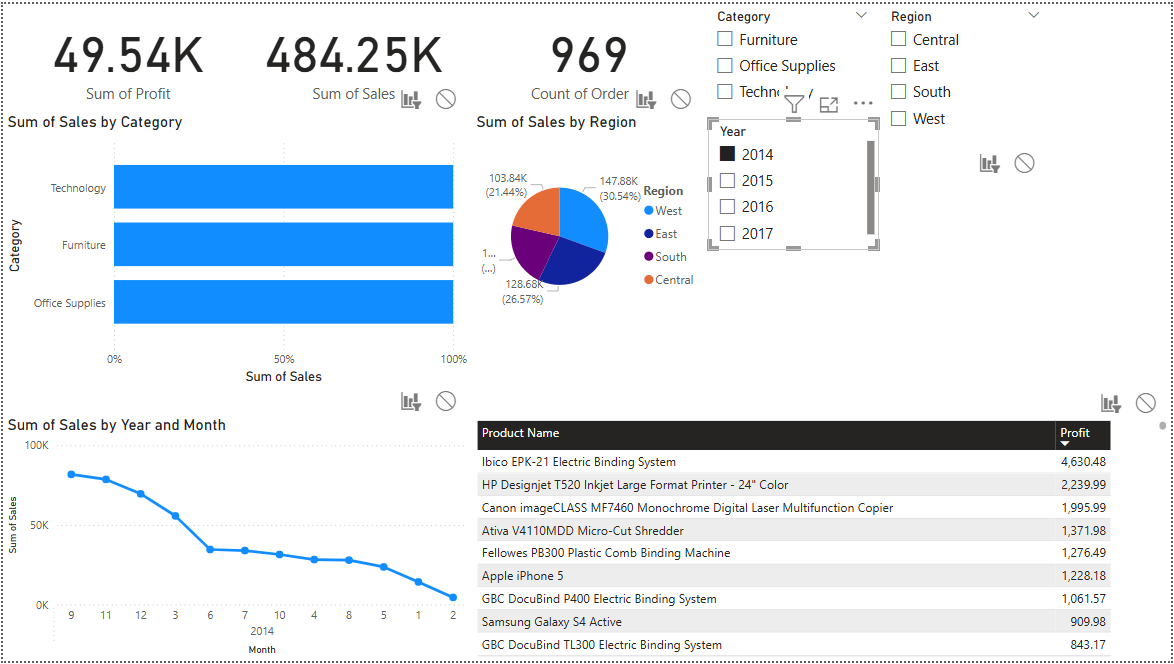

The dashboard page shown, as its layout file describes it:
{"tool":"powerbi","page":{"name":"Page 1","canvas":[1280,720],"ordinal":0},"visuals":[{"type":"card","fields":{"Values":["Sum(Sample - Superstore (2).Profit)"]},"box":[9.8,0,255.6,118.6],"z":0},{"type":"card","fields":{"Values":["Sum(Sample - Superstore (2).Sales)"]},"box":[256.8,0,256.8,118.6],"z":1000},{"type":"card","fields":{"Values":["Count(Sample - Superstore (2).Order ID)"]},"box":[513.6,0,256.8,118.6],"z":2000},{"type":"hundredPercentStackedBarChart","fields":{"Category":["Sample - Superstore (2).Category"],"Y":["Sum(Sample - Superstore (2).Sales)"]},"box":[0,118.6,513.6,302],"z":3000},{"type":"pieChart","fields":{"Y":["Sum(Sample - Superstore (2).Sales)"],"Category":["Sample - Superstore (2).Region"]},"box":[513.6,118.6,258,251.9],"z":5000},{"type":"tableEx","fields":{"Values":["Sample - Superstore (2).Product Name","Sample - Superstore (2).Profit"]},"box":[513.6,452.4,766.7,267.8],"z":6000},{"type":"slicer","fields":{"Values":["Sample - Superstore (2).Category"]},"box":[770.4,0,189.5,126],"z":7000},{"type":"slicer","fields":{"Values":["Sample - Superstore (2).Region"]},"box":[959.9,0,188.3,156.5],"z":8000},{"type":"slicer","fields":{"Values":["Sample - Superstore (2).Year"]},"box":[772.5,126.2,187.5,143.8],"z":9000},{"type":"lineChart","fields":{"Y":["Sum(Sample - Superstore (2).Sales)"],"Category":["Sample - Superstore (2).Year","Sample - Superstore (2).Month"]},"box":[0,450.7,513.7,268.5],"z":9001}]}

Visuals, with their boxes on the page's 1280x720 design canvas (x1, y1, x2, y2). These are canvas units, not pixel positions in the 1174x664 screenshot, which may show the page scaled, cropped or inside an application window:
card - Sum(Sample - Superstore (2).Profit): <region>10, 0, 265, 119</region>
card - Sum(Sample - Superstore (2).Sales): <region>257, 0, 514, 119</region>
card - Count(Sample - Superstore (2).Order ID): <region>514, 0, 770, 119</region>
hundredPercentStackedBarChart - Sample - Superstore (2).Category x Sum(Sample - Superstore (2).Sales): <region>0, 119, 514, 421</region>
pieChart - Sum(Sample - Superstore (2).Sales) x Sample - Superstore (2).Region: <region>514, 119, 772, 370</region>
tableEx - Sample - Superstore (2).Product Name x Sample - Superstore (2).Profit: <region>514, 452, 1280, 720</region>
slicer - Sample - Superstore (2).Category: <region>770, 0, 960, 126</region>
slicer - Sample - Superstore (2).Region: <region>960, 0, 1148, 156</region>
slicer - Sample - Superstore (2).Year: <region>772, 126, 960, 270</region>
lineChart - Sum(Sample - Superstore (2).Sales) x Sample - Superstore (2).Year: <region>0, 451, 514, 719</region>
